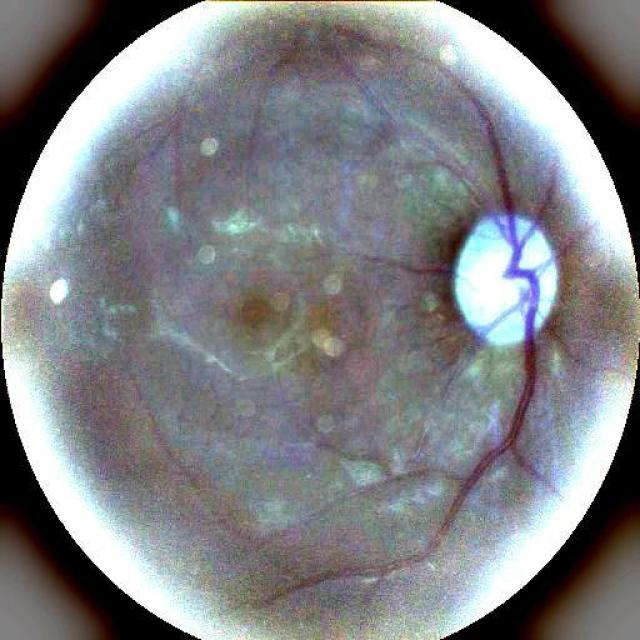Macula: (236, 292, 282, 345)
Nerves: (461, 303, 536, 496), (492, 140, 514, 249), (450, 495, 462, 516)
Optic Disk: (452, 214, 558, 345)
